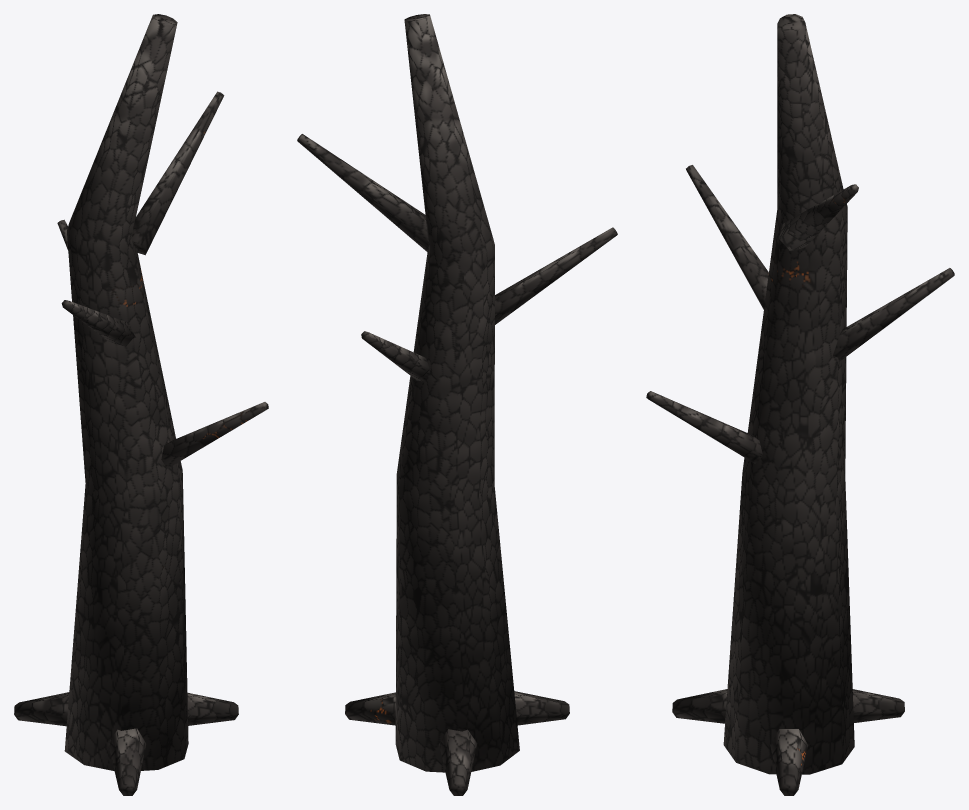
File: charred_tree_a.glb
3 views of the same model, side by side, from view 1: azimuth 30°, elevation 25°; view 2: azimuth 150°, elevation 25°; view 3: azimuth 270°, elevation 25° (orthographic). The views are drawn at different scales.
Visible parts, largest first — view 1: Trunk; view 2: Trunk; view 3: Trunk.
Boxes of the visible parts, <box> form: Trunk: <box>14,14,268,795</box>; Trunk: <box>297,14,617,795</box>; Trunk: <box>646,14,954,795</box>.
Size of the model in its own units: 1.22 by 3.53 by 1.32.
Materials: 1 (1 with a texture image).
